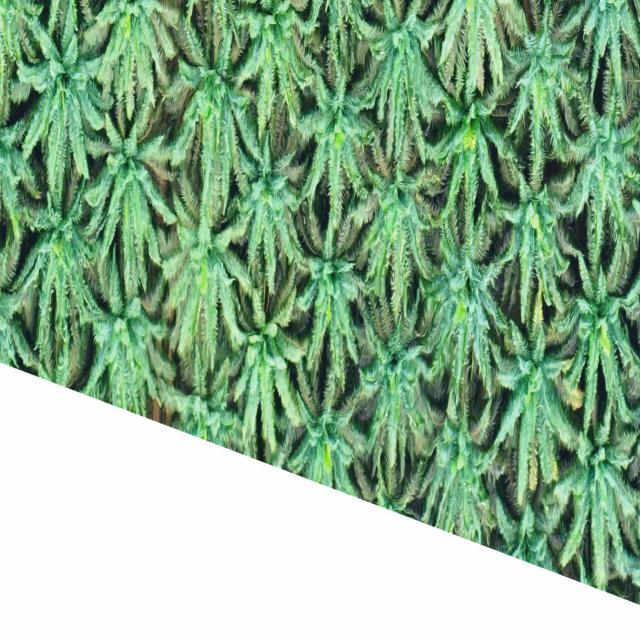Tree: (488, 275, 589, 505), (164, 9, 266, 229), (11, 0, 117, 201), (546, 214, 640, 440), (82, 69, 172, 300), (158, 157, 245, 377), (420, 194, 510, 404), (216, 241, 308, 443), (0, 184, 106, 356), (487, 140, 585, 325), (425, 51, 524, 233), (349, 283, 438, 478), (350, 0, 447, 174), (296, 40, 386, 226), (496, 0, 592, 174), (549, 70, 640, 247), (551, 392, 640, 570), (221, 122, 311, 295), (352, 133, 441, 307), (291, 200, 367, 392), (284, 349, 366, 463)
